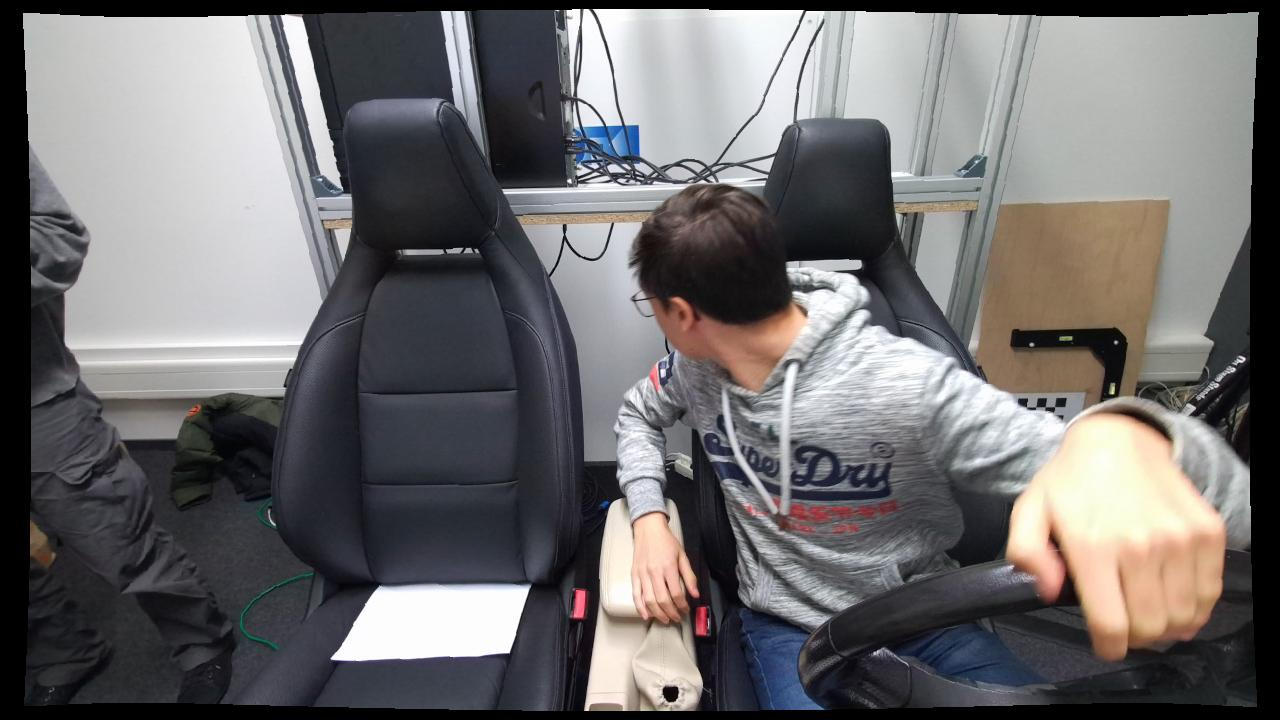Distracted: (612, 176, 979, 709)
